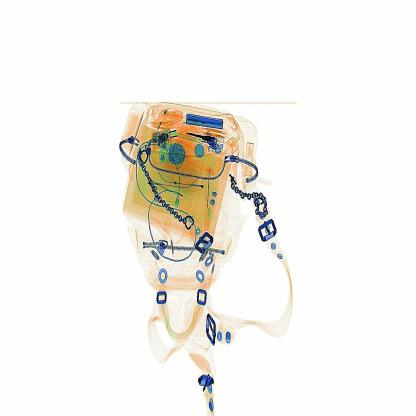wrench: (200, 163, 218, 237)
